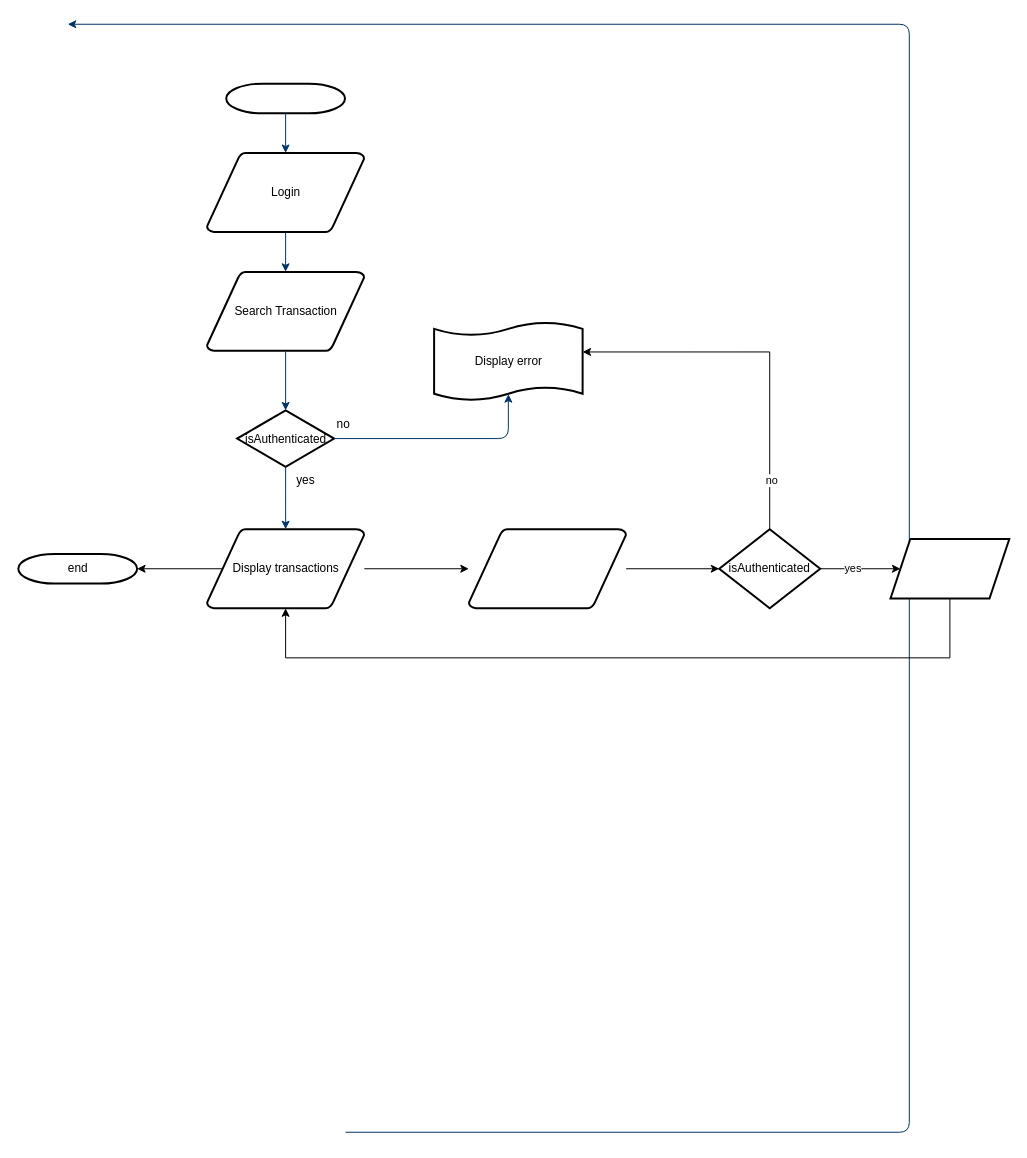
The diagram is 1027 pixels wide and 1158 high, and some of its shapes have lost their labels. The shapes that lost their labels are listed below. From the top down, each one's centre as x and y in pixels, then its label:
At [285,98]: "start".
At [547,568]: "Update transactions".
At [949,568]: "Update to database".
